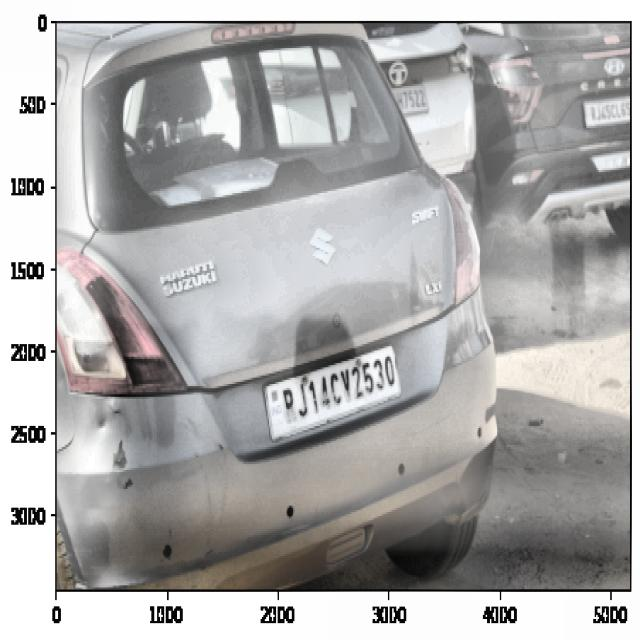license_plate: (277, 346, 398, 427)
